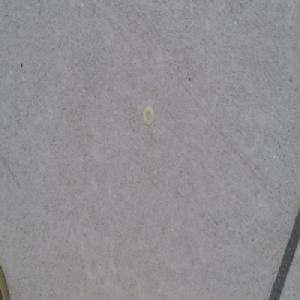Washer: (142, 106, 154, 127)
